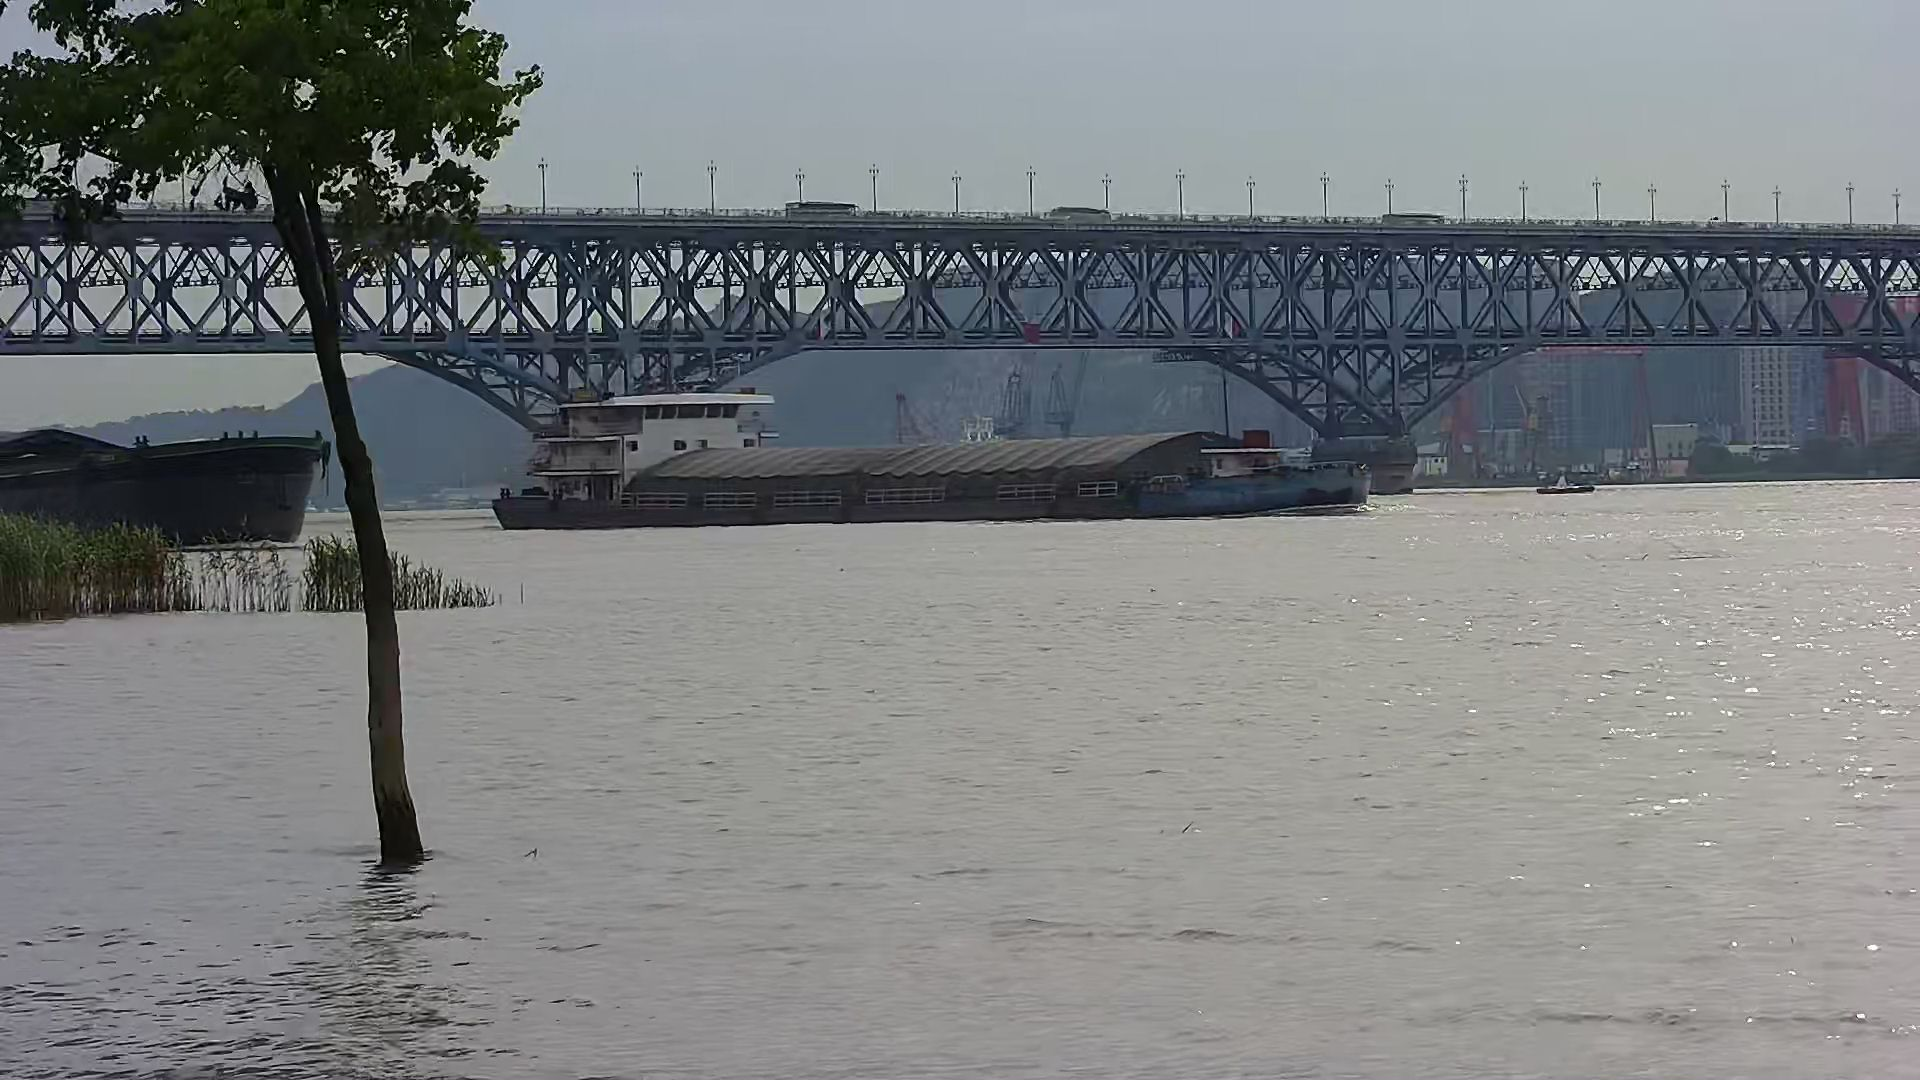boat: (1527, 463, 1602, 505)
bridge: (5, 162, 1920, 518)
grass: (1, 498, 518, 618)
ship: (483, 369, 1425, 543), (1, 406, 368, 547)
tree: (7, 1, 538, 898)
